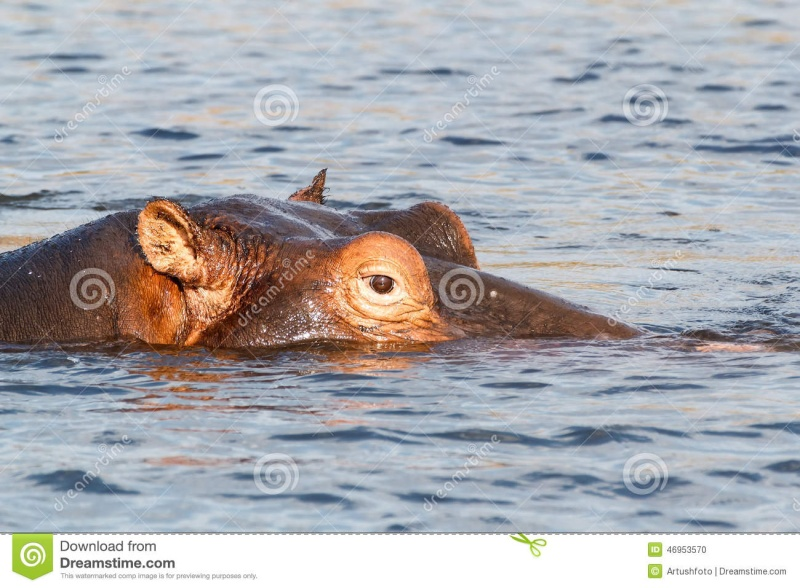hipopotamo: (0, 153, 678, 363)
